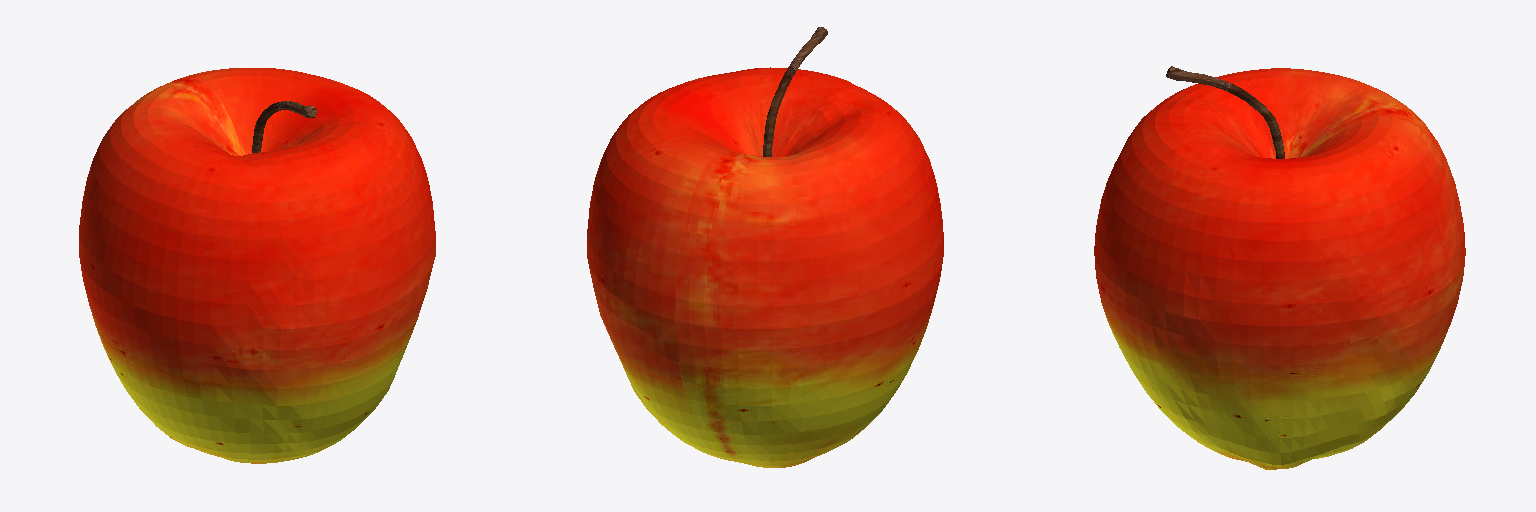
The picture shows the model from 3 angles: view 1: azimuth 30°, elevation 25°; view 2: azimuth 150°, elevation 25°; view 3: azimuth 270°, elevation 25°; orthographic projection.
Parts seen in each view (by area): view 1: apple_skin, apple_stem; view 2: apple_skin, apple_stem; view 3: apple_skin, apple_stem.
Part boxes in pixels (x1,y1,x2,y2): apple_skin: (79,68,435,463); apple_stem: (252,101,316,152); apple_skin: (587,67,943,467); apple_stem: (763,27,827,156); apple_skin: (1094,68,1465,469); apple_stem: (1166,66,1284,158).
Bounding box in the file's own units: 0.6172 × 0.7322 × 0.6509.
2 materials, 2 textured.